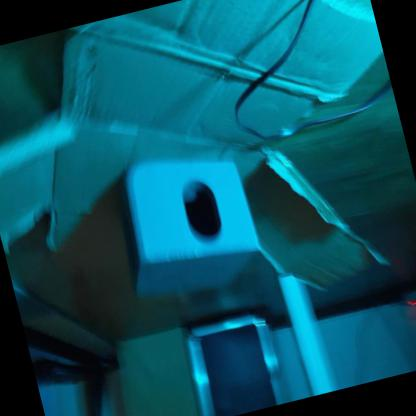CornerCasting: (100, 140, 264, 305)
